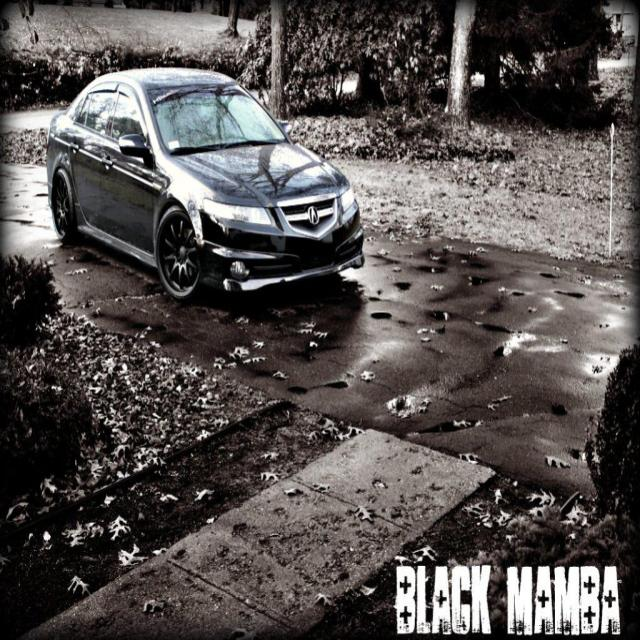car: (39, 61, 363, 297)
